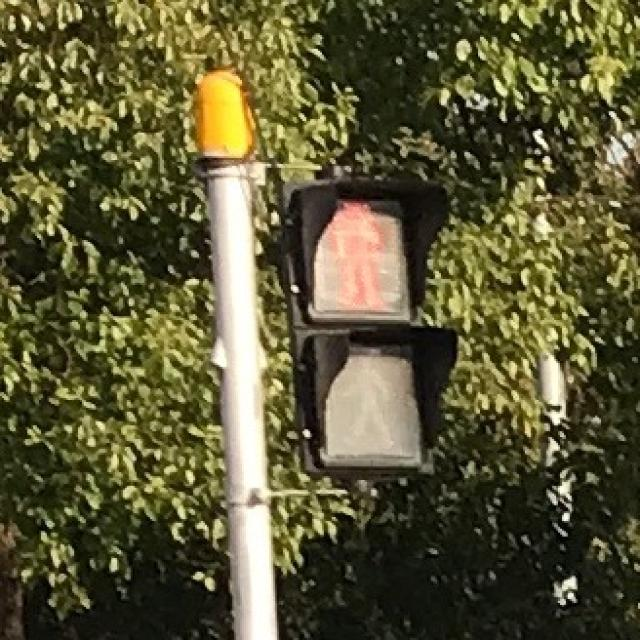red_light: (302, 181, 413, 320)
